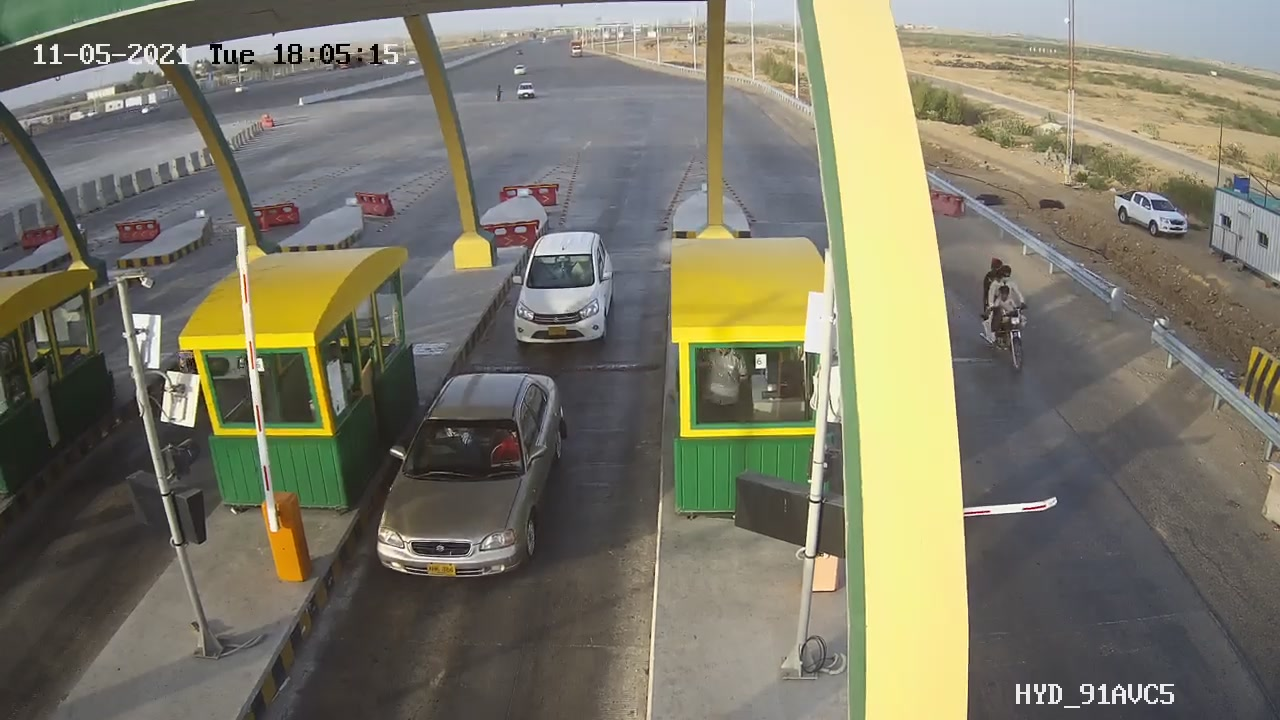F1: (370, 349, 589, 620), (496, 217, 622, 349)
